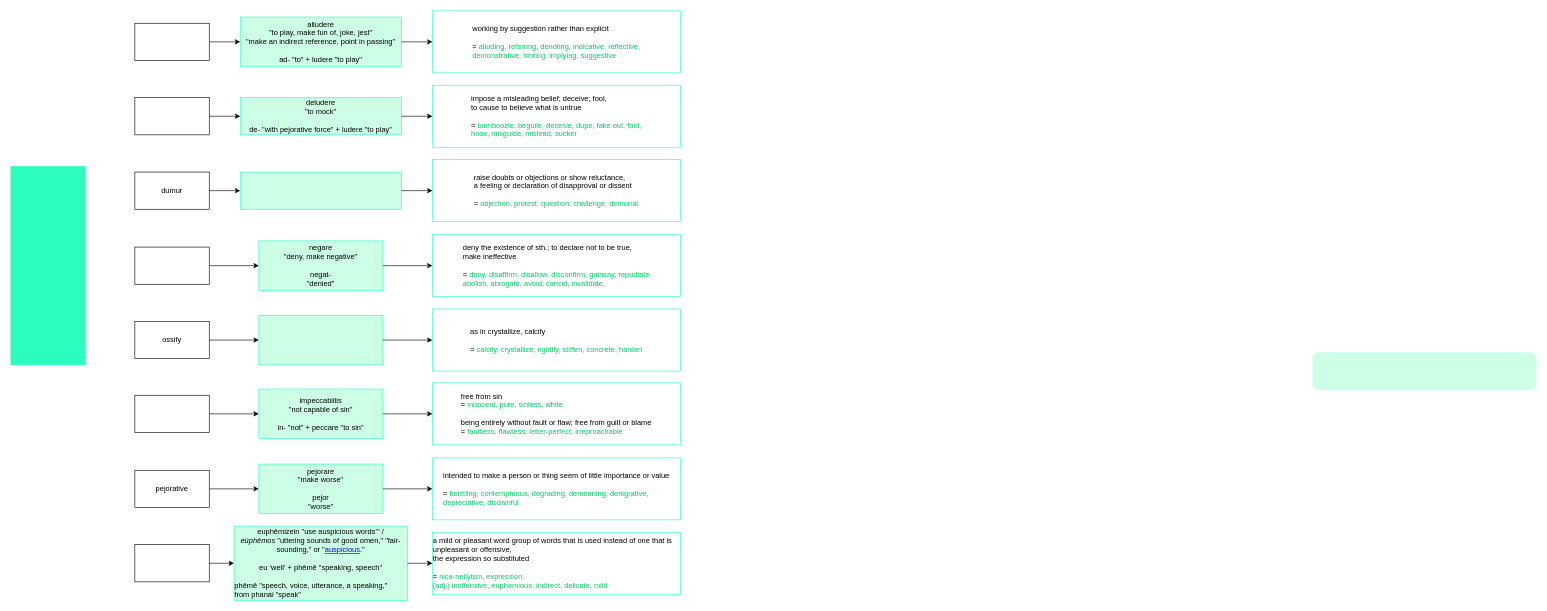
The diagram is 1547 pixels wide and 611 high, and some of its shapes have lost their labels. Here are the shapes that lost their labels. From the top down, the centre of each, then its label:
point 171,41: allusive
point 171,116: delude
point 320,190: demourer "to linger, tarry, delay" de- "away, completely" + morari "delay"
point 47,265: p.22 allusive delude demur negate ossify impeccable pejorative euphemism
point 171,265: negate
point 320,340: ossifier "convert to bone" os / oss- "bone"
point 1424,371: log transformation
point 171,413: impeccable
point 171,563: euphemism
